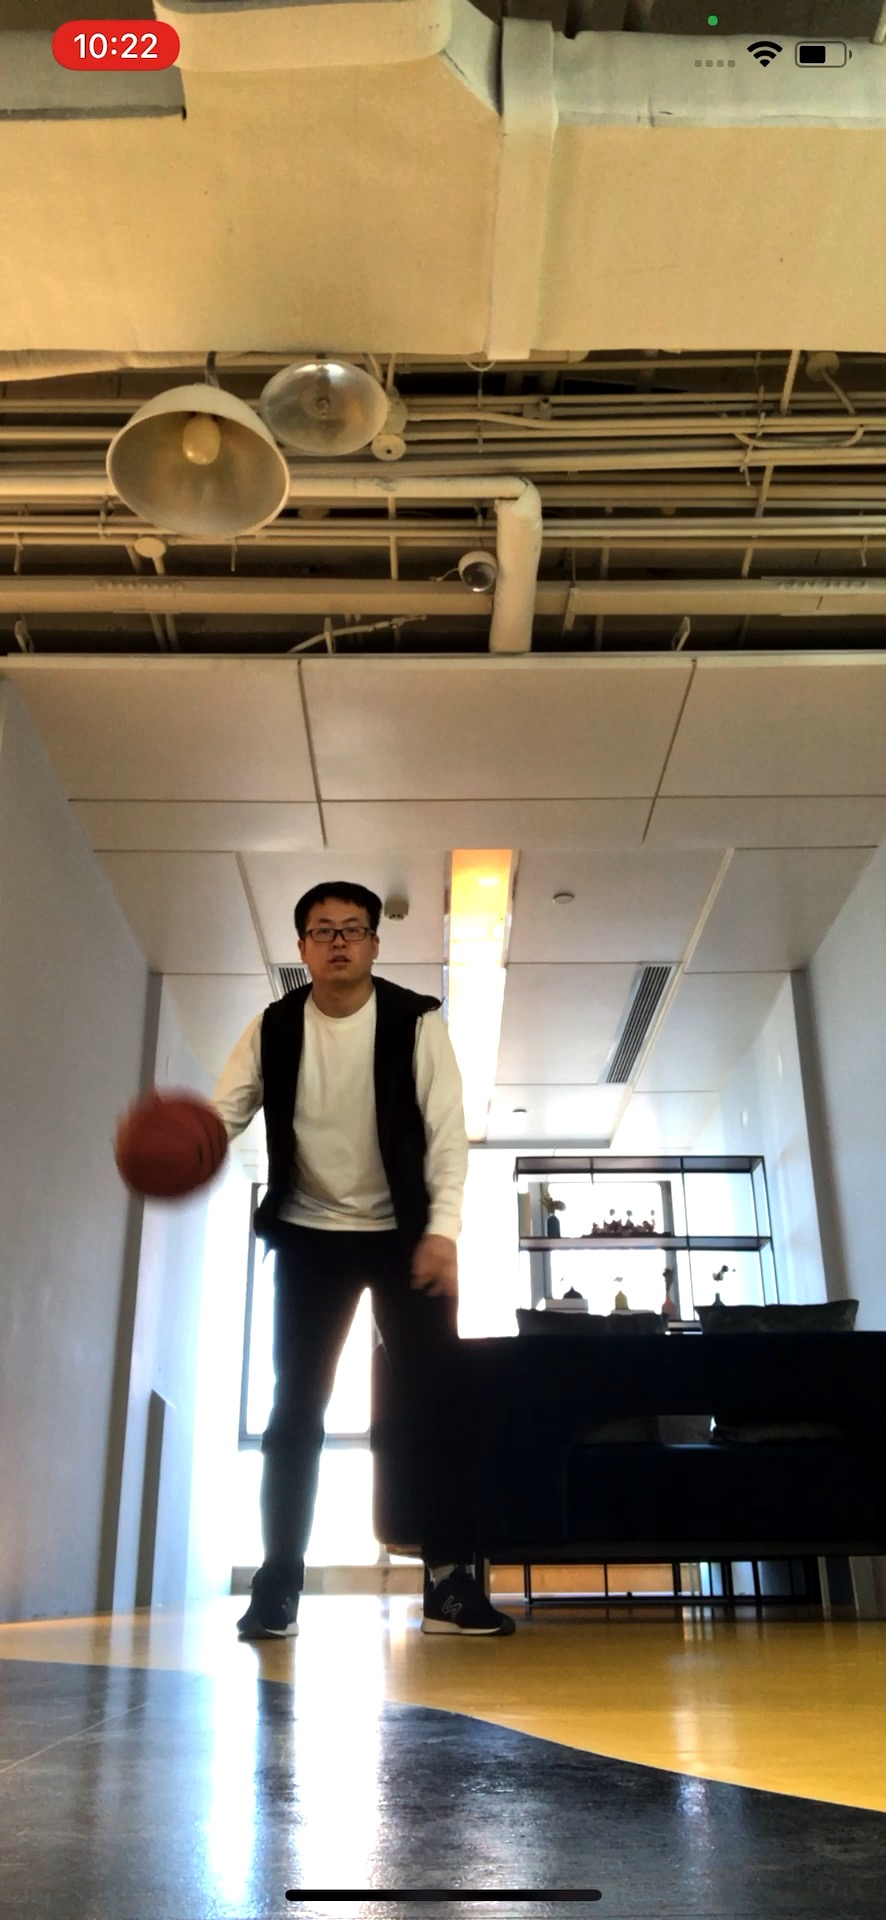ball: (114, 1090, 226, 1202)
